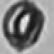correct: (1, 1, 46, 51)
